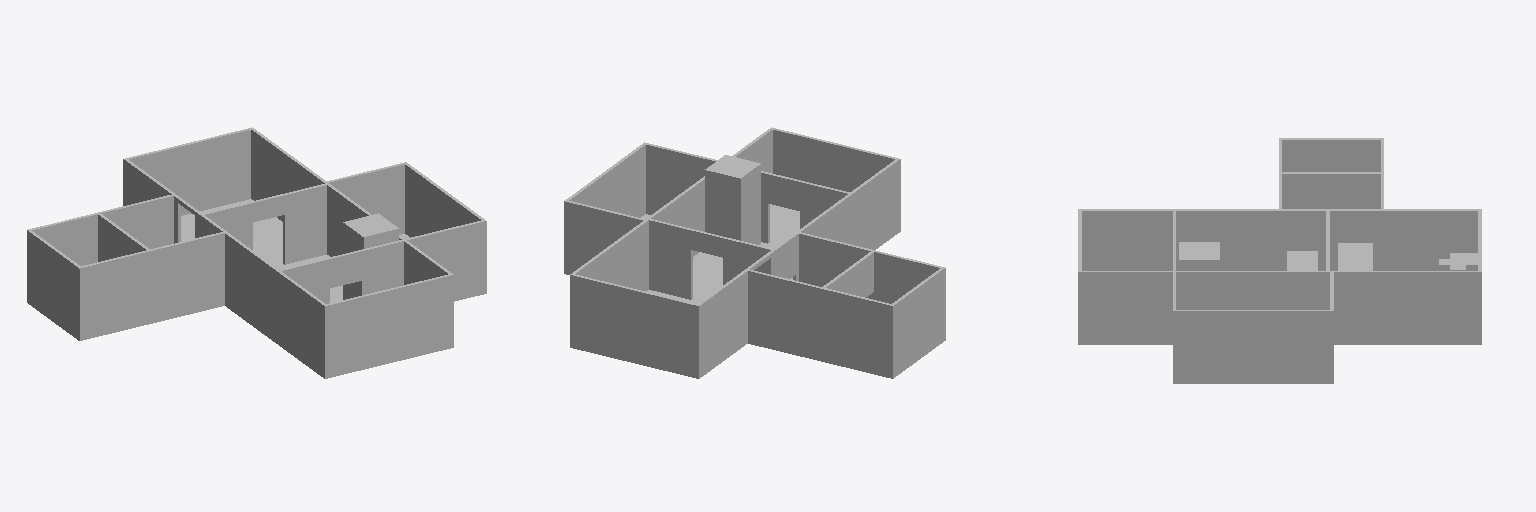
File: level_tutorial_col.obj
3 renders of one model, left to right at view 1: azimuth 30°, elevation 25°; view 2: azimuth 150°, elevation 25°; view 3: azimuth 270°, elevation 25°, orthographic.
Parts seen in each view (by area): view 1: Cube.050_Cube.051, Cube.041_Cube.042, Cube.048_Cube.049, Cube.040_Cube.041, Cube.049_Cube.050, Cube.051_Cube.052, Cube.043_Cube.044, Cube.046_Cube.047, Cube.057_Cube.058, Cube.045_Cube.046, Cube.042_Cube.043, Cube.055_Cube.056 (+13 smaller); view 2: Cube.049_Cube.050, Cube.040_Cube.041, Cube.048_Cube.049, Cube.041_Cube.042, Cube.050_Cube.051, Cube.069_Cube.070, Cube.051_Cube.052, Cube.047_Cube.048, Cube.042_Cube.043, Cube.046_Cube.047, Cube.057_Cube.058, Cube.045_Cube.046 (+15 smaller); view 3: Cube.048_Cube.049, Cube.046_Cube.047, Cube.045_Cube.046, Cube.044_Cube.045, Cube.047_Cube.048, Cube.051_Cube.052, Cube.059_Cube.060, Cube.053_Cube.054, Cube.052_Cube.053, Cube.038_Cube.039, Cube.062_Cube.063, Cube.065_Cube.066 (+5 smaller).
Boxes of the visible parts, <box> form: Cube.050_Cube.051: <box>78,232,224,337</box>; Cube.041_Cube.042: <box>323,274,453,375</box>; Cube.048_Cube.049: <box>221,229,324,373</box>; Cube.040_Cube.041: <box>123,127,253,215</box>; Cube.049_Cube.050: <box>27,195,173,300</box>; Cube.051_Cube.052: <box>29,230,79,336</box>; Cube.043_Cube.044: <box>406,220,486,297</box>; Cube.046_Cube.047: <box>405,164,484,237</box>; Cube.057_Cube.058: <box>283,184,326,264</box>; Cube.045_Cube.046: <box>251,129,327,221</box>; Cube.042_Cube.043: <box>327,162,407,234</box>; Cube.055_Cube.056: <box>360,240,403,295</box>; Cube.049_Cube.050: <box>748,269,894,375</box>; Cube.040_Cube.041: <box>570,274,700,375</box>; Cube.048_Cube.049: <box>793,159,898,280</box>; Cube.041_Cube.042: <box>770,127,900,228</box>; Cube.050_Cube.051: <box>799,232,945,337</box>; Cube.069_Cube.070: <box>705,155,760,244</box>; Cube.051_Cube.052: <box>892,268,943,373</box>; Cube.047_Cube.048: <box>699,266,752,373</box>; Cube.042_Cube.043: <box>564,200,644,272</box>; Cube.046_Cube.047: <box>566,144,645,217</box>; Cube.057_Cube.058: <box>649,219,692,299</box>; Cube.045_Cube.046: <box>572,219,648,290</box>; Cube.048_Cube.049: <box>1082,209,1286,270</box>; Cube.046_Cube.047: <box>1176,310,1329,380</box>; Cube.045_Cube.046: <box>1330,271,1477,341</box>; Cube.044_Cube.045: <box>1082,271,1175,341</box>; Cube.047_Cube.048: <box>1373,209,1477,270</box>; Cube.051_Cube.052: <box>1282,138,1380,171</box>; Cube.059_Cube.060: <box>1323,172,1380,242</box>; Cube.053_Cube.054: <box>1176,271,1250,309</box>; Cube.052_Cube.053: <box>1286,271,1329,309</box>; Cube.038_Cube.039: <box>1287,243,1372,270</box>; Cube.062_Cube.063: <box>1282,172,1322,208</box>; Cube.065_Cube.066: <box>1251,271,1285,309</box>.
Bounding box in the file's own units: 37.6 × 8.45 × 37.05.